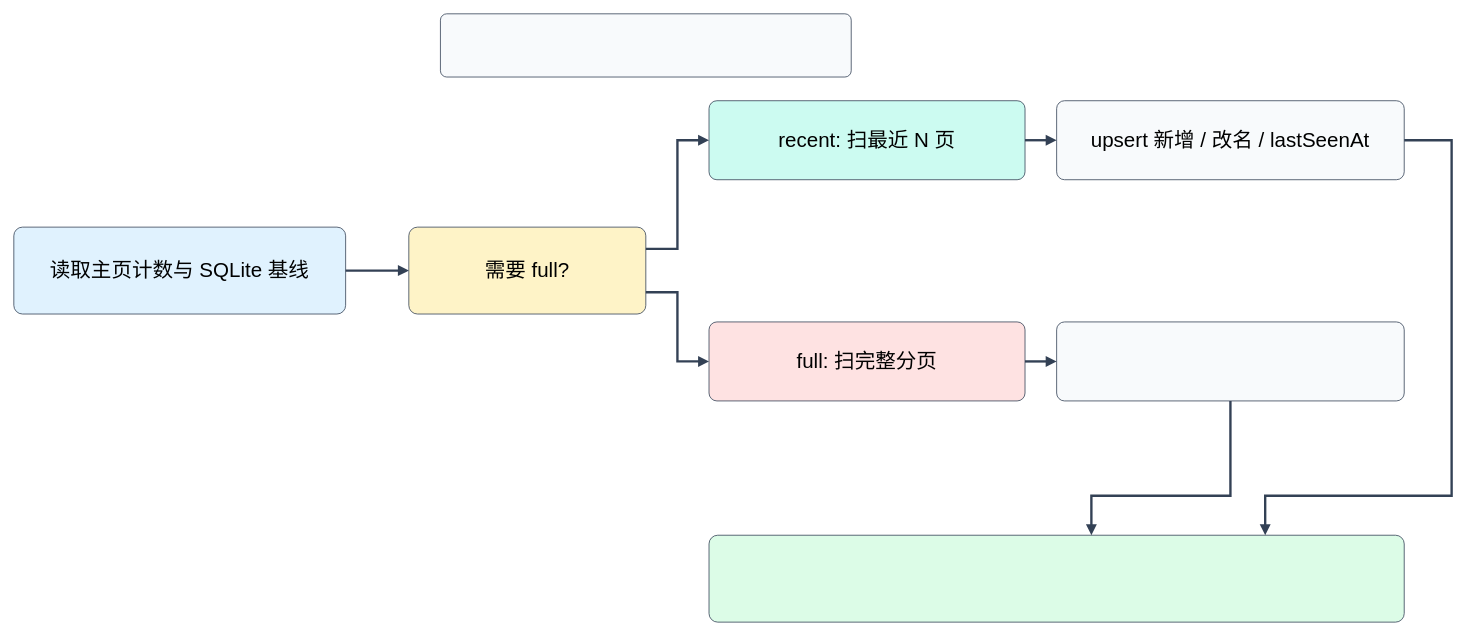
Image size: 1473x636. Some labels were removed from this diagram. Here are the shapes that lost their labels. From the top down, the centre of each, then its label:
At point (645, 45): "Monitor 扫描决策流程".
At point (1230, 361): "推进取关状态机".
At point (1056, 578): "导出 latest.json / csv / change".
